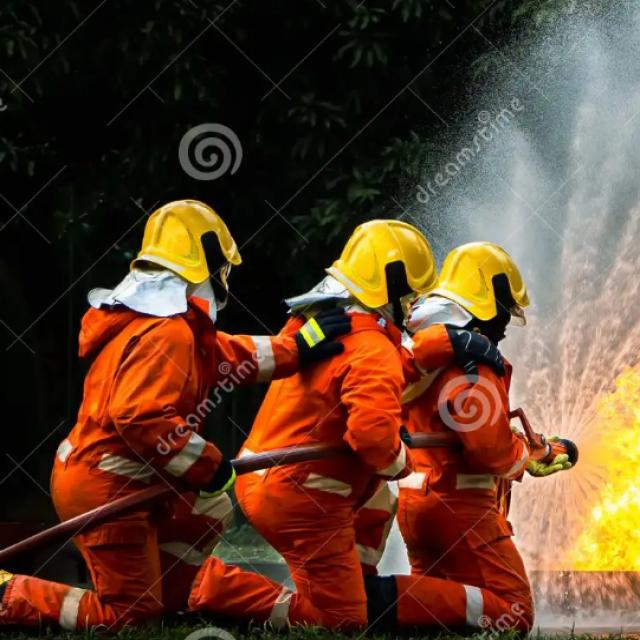helmet: (334, 215, 433, 301), (128, 198, 240, 274), (443, 236, 530, 320)
